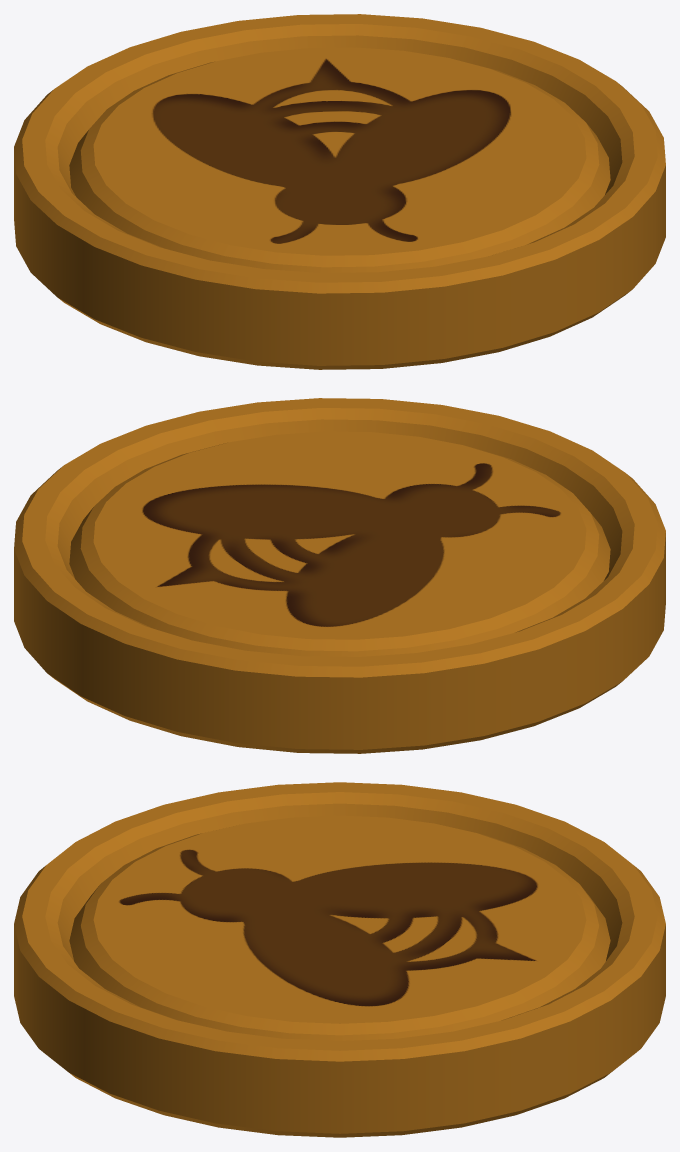
File: Coin1Model.fbx
3 renders of one model, top to bottom at view 1: azimuth 30°, elevation 25°; view 2: azimuth 150°, elevation 25°; view 3: azimuth 270°, elevation 25°, orthographic.
Parts seen in each view (by area): view 1: Cylinder; view 2: Cylinder; view 3: Cylinder.
Part boxes in pixels (<box>): Cylinder: <box>14,14,665,369</box>; Cylinder: <box>14,398,665,753</box>; Cylinder: <box>14,782,665,1137</box>.
Bounding box in the file's own units: 22.06 × 3.25 × 22.06.
